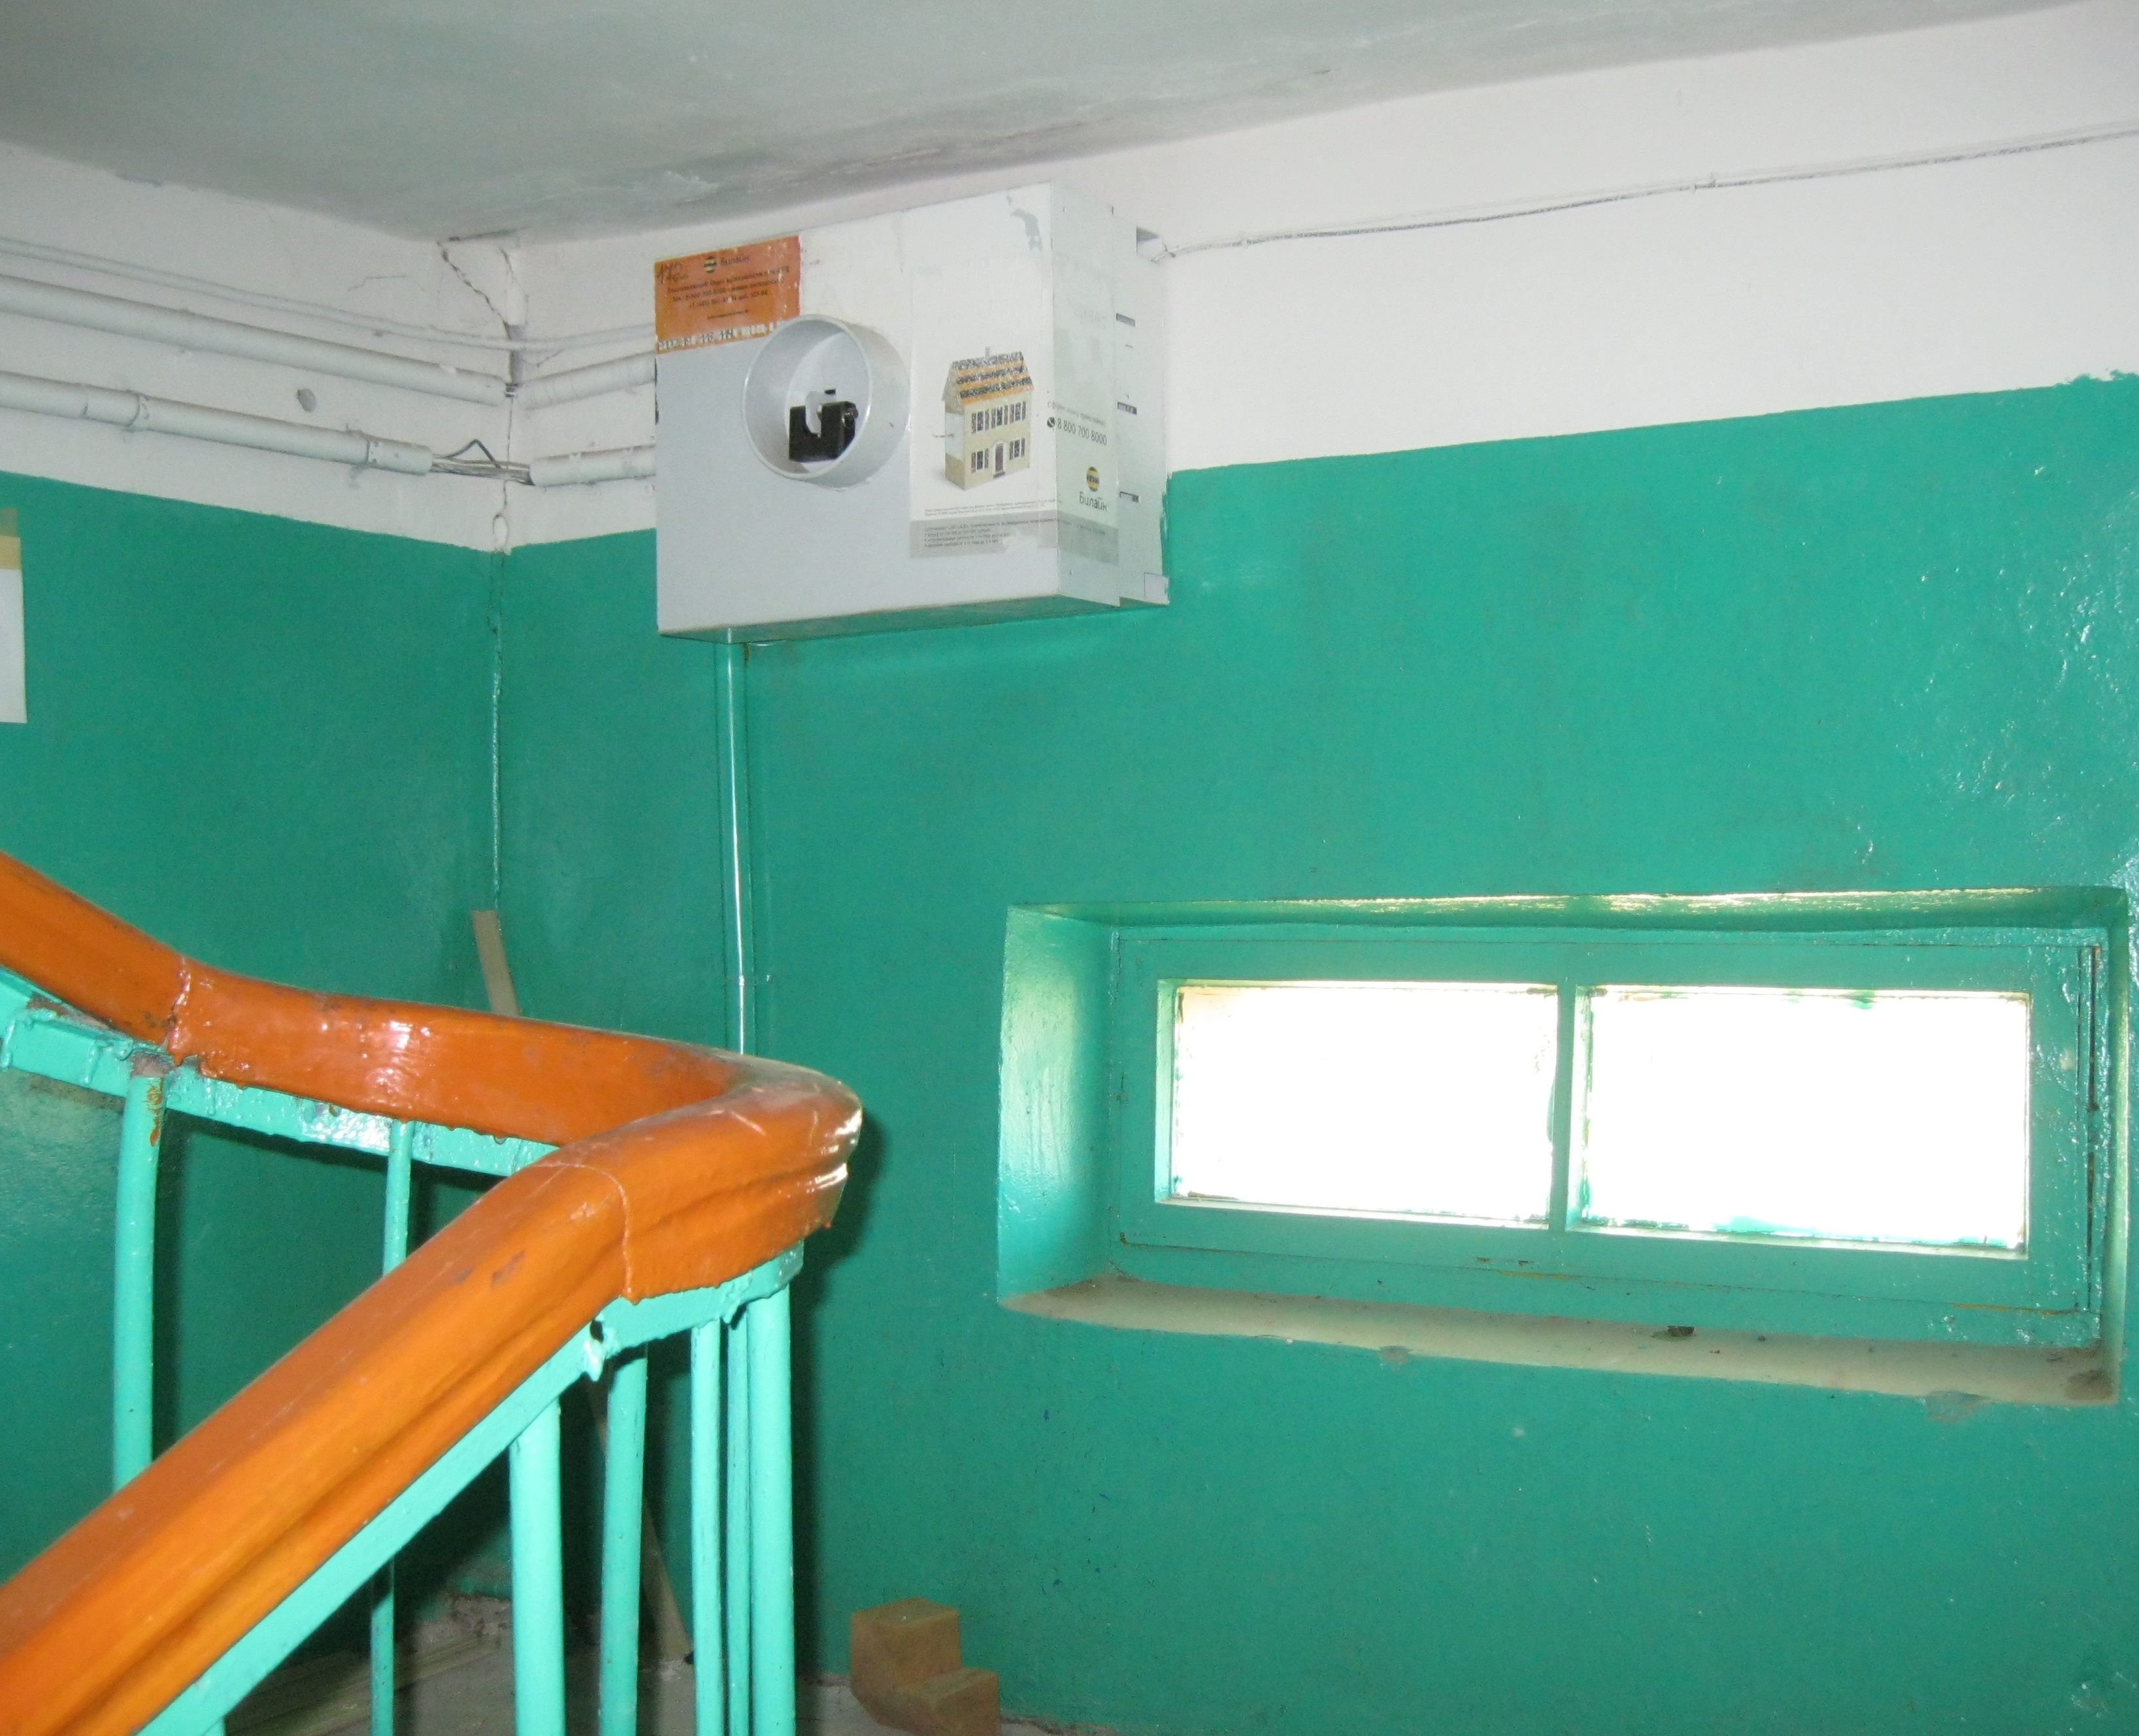shta-3: (652, 179, 1166, 647)
